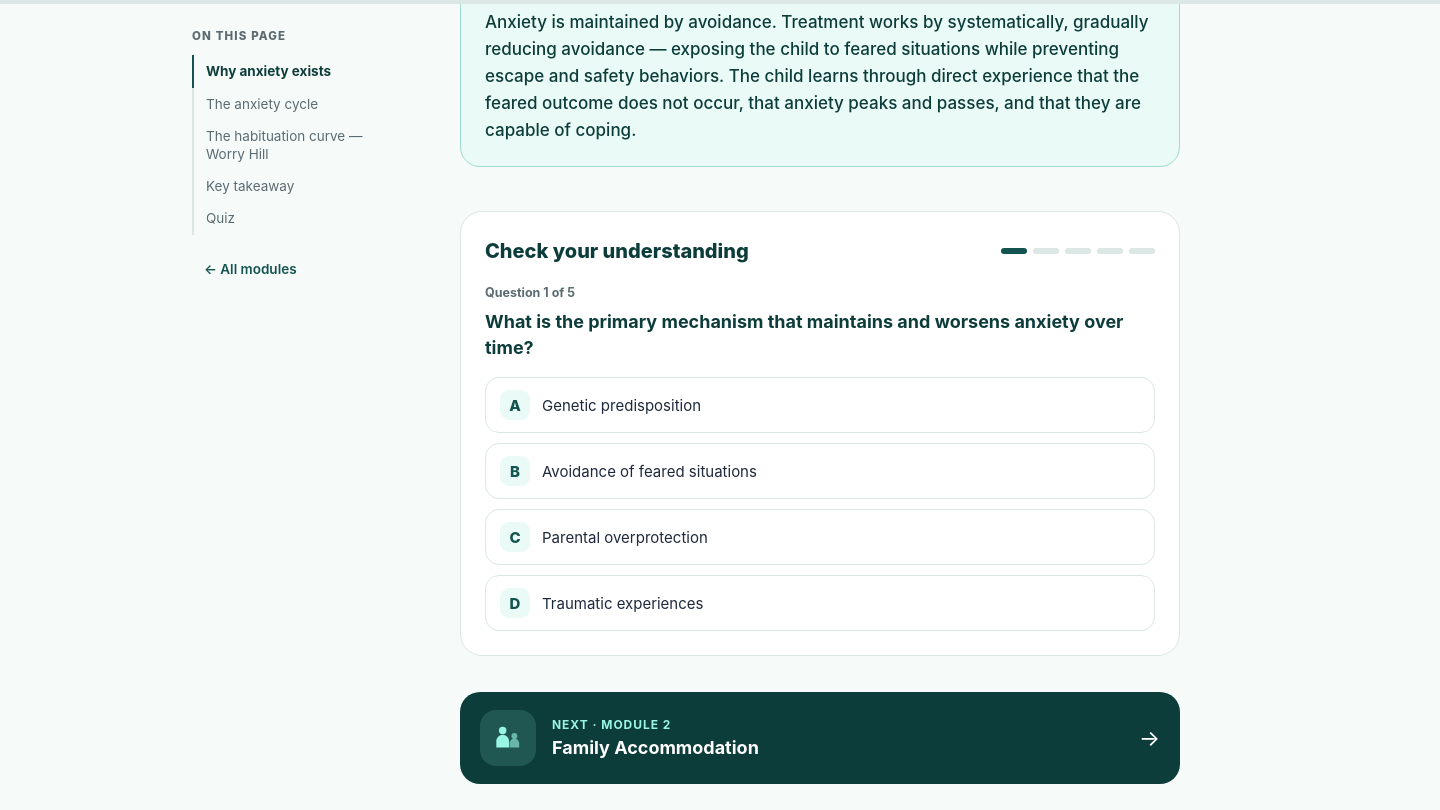
Test: a module › the quiz shows straight away whether an answer is right, and why
(page scrolled)
Expected: the text "Question 1 of 5" is shown, [485,286,575,300]
Click the button "A Genetic predisposition" at (622, 405), box [485,377,1155,433]
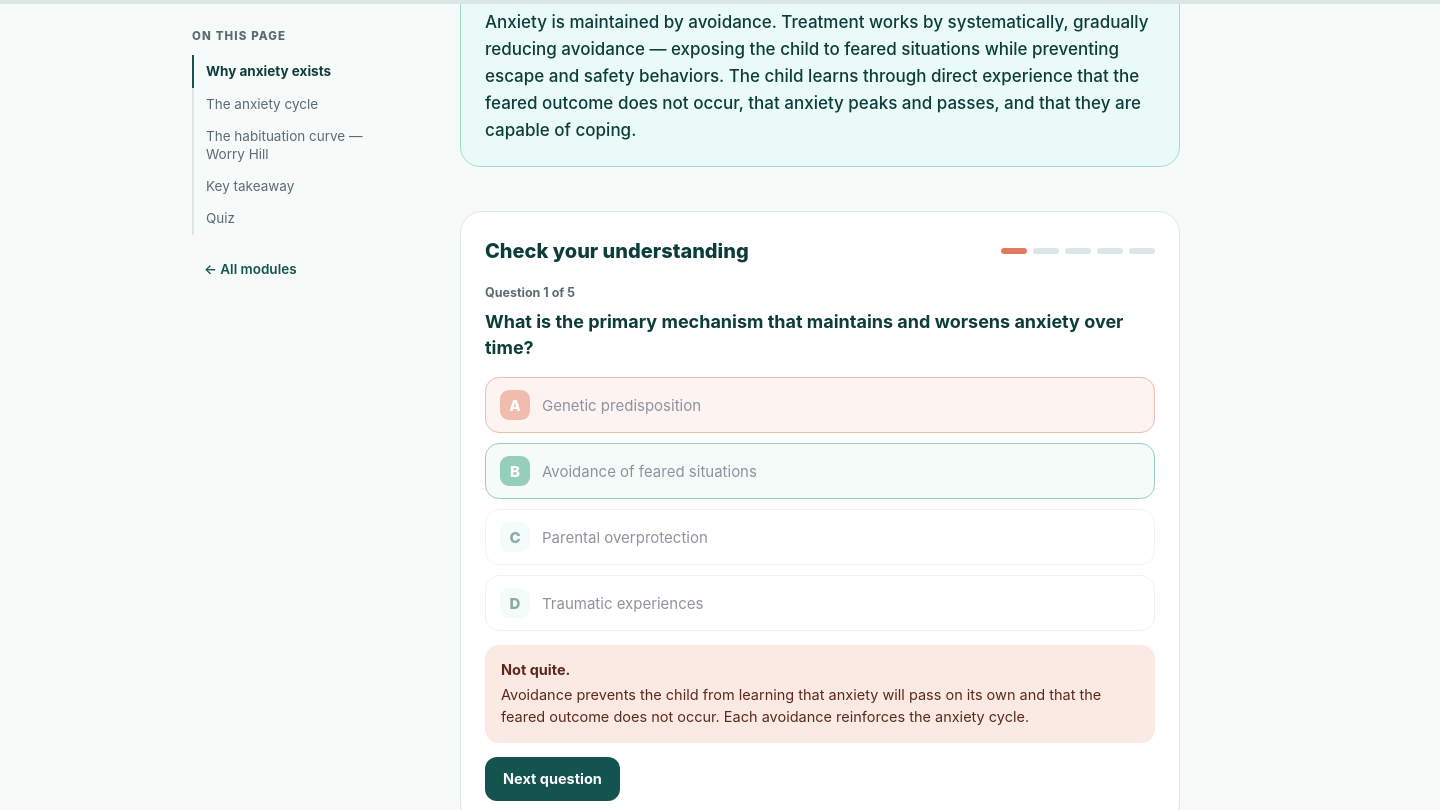
Expected: the message shows "Not quite.", [501,661,570,678]
Expected: the button "A Genetic predisposition" is disabled, [485,377,1155,433]
Click the button "Next question" at (552, 779), box [485,757,620,801]
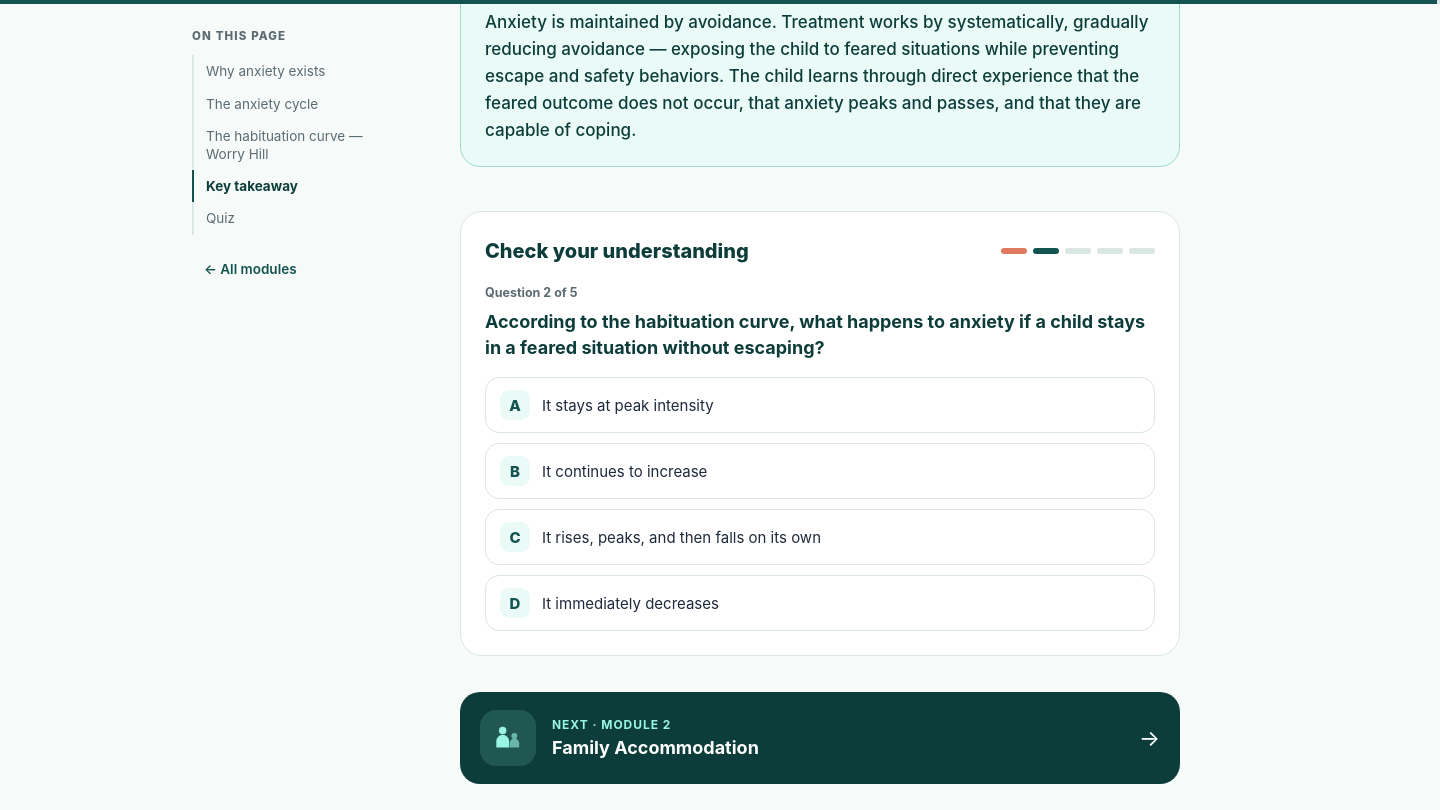
Expected: the text "Question 2 of 5" is shown, [485,286,578,300]
